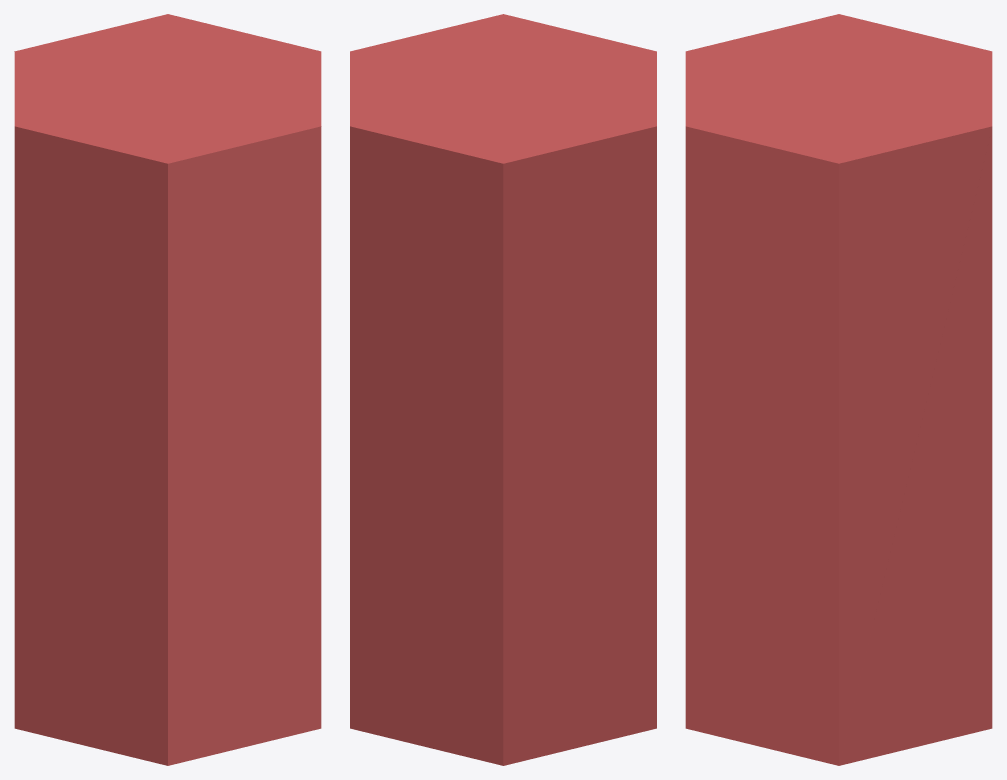
File: penguin.glb
3 views of the same model, side by side, from view 1: azimuth 30°, elevation 25°; view 2: azimuth 150°, elevation 25°; view 3: azimuth 270°, elevation 25° (orthographic).
Parts seen in each view (by area): view 1: penguin_col; view 2: penguin_col; view 3: penguin_col.
Boxes of the visible parts, x1=… form: penguin_col: x1=14, y1=14, x2=321, y2=765; penguin_col: x1=350, y1=14, x2=656, y2=765; penguin_col: x1=685, y1=14, x2=992, y2=765.
Bounding box in the file's own units: 1.6 × 3 × 1.39.
